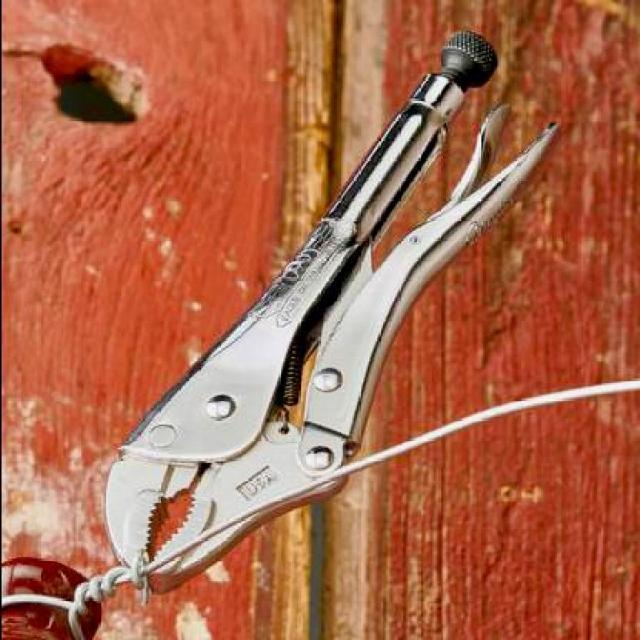pliers: (102, 26, 560, 599)
